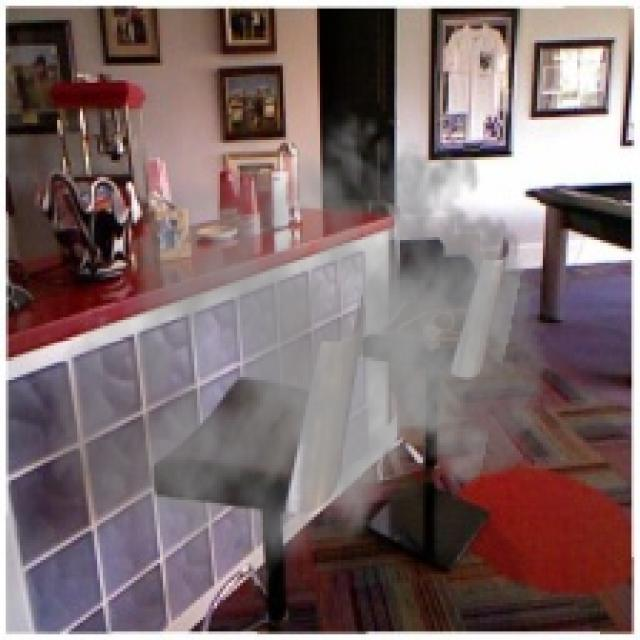smoke: (43, 94, 560, 612)
